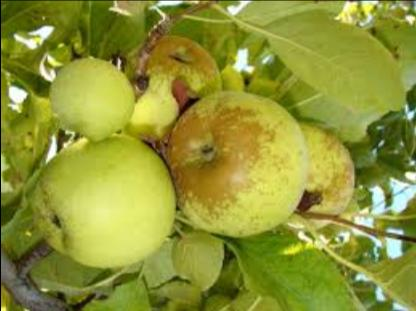defect: (155, 96, 280, 220), (294, 123, 358, 224)
